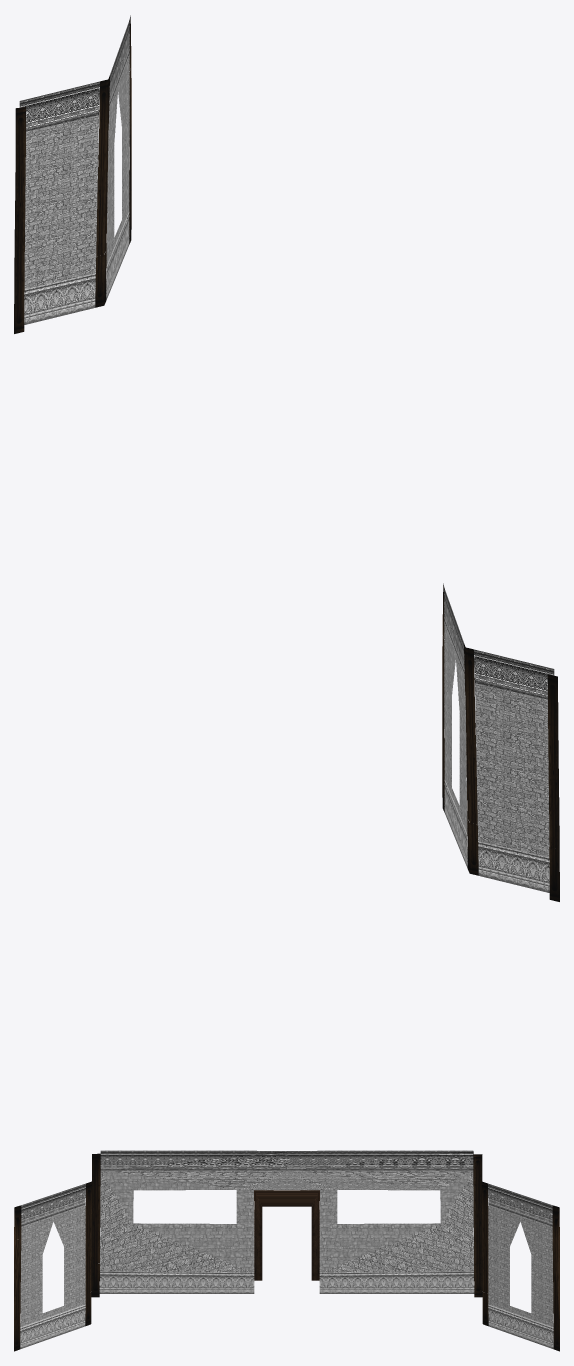
File: test-walls_back-solid.glb
3 views of the same model, one above another, from view 1: azimuth 30°, elevation 25°; view 2: azimuth 150°, elevation 25°; view 3: azimuth 270°, elevation 25° (orthographic). The views are drawn at different scales.
Parts seen in each view (by area): view 1: room_back; view 2: room_back; view 3: room_back.
Part boxes in pixels (x1,y1,x2,y2): room_back: (14, 15, 131, 333); room_back: (442, 583, 559, 901); room_back: (14, 1150, 559, 1351).
Size of what is drawn, in the model's own units: 73.55 by 85.96 by 295.
7 materials, 7 textured.
